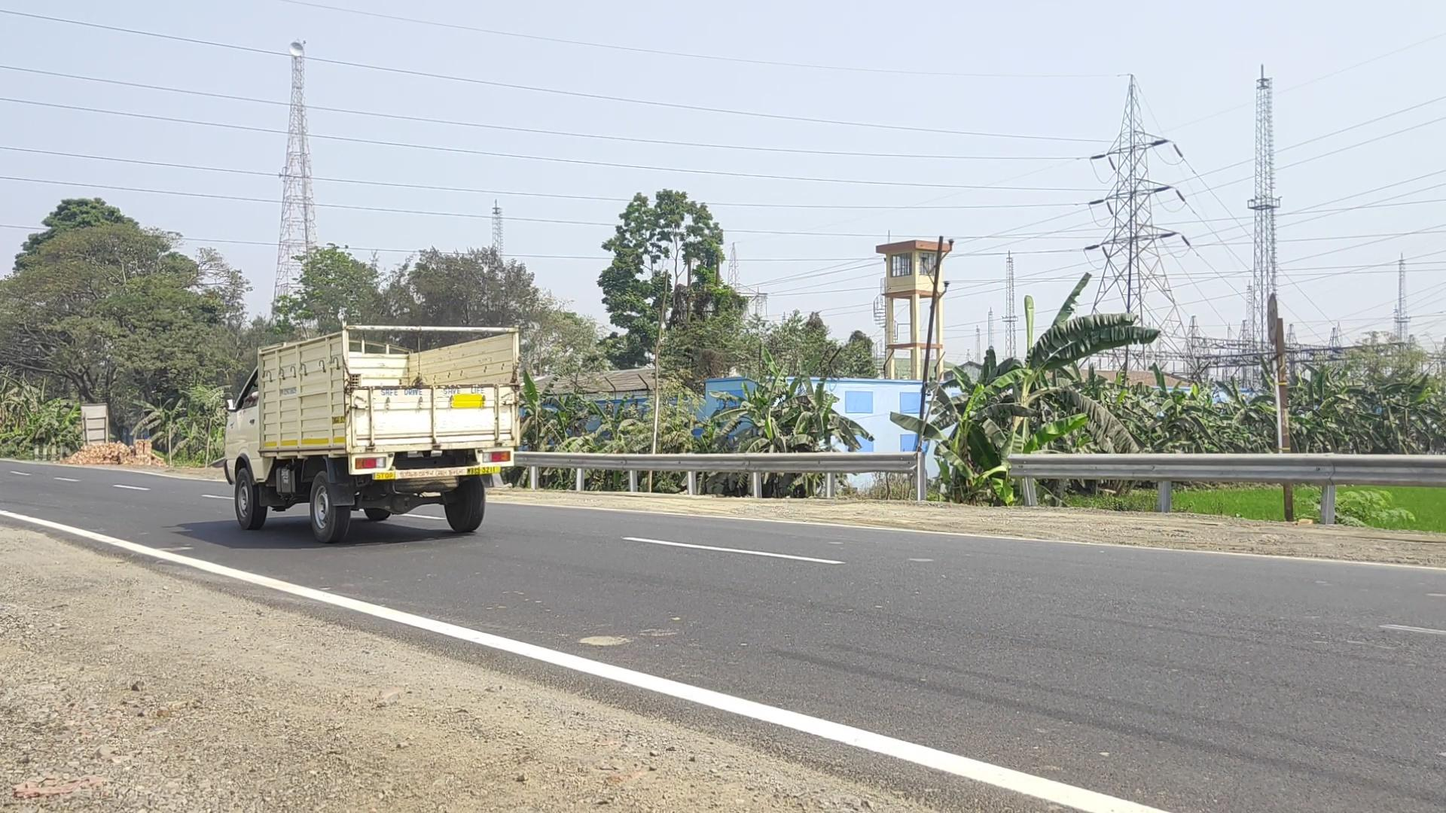van: (223, 320, 520, 544)
